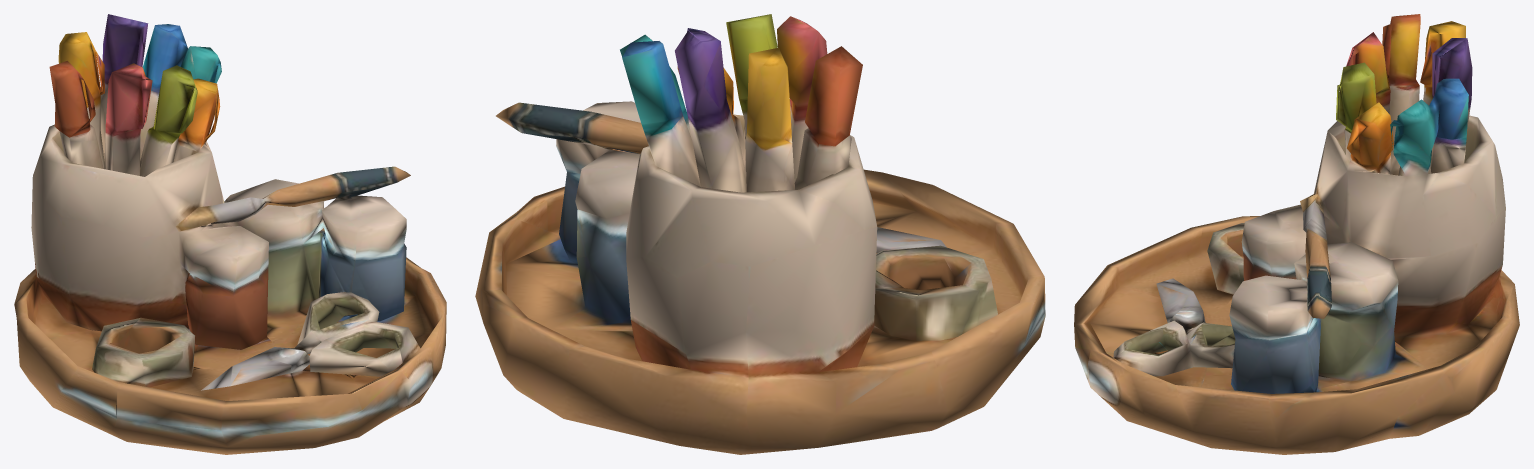
The model's file is art-supplies.low.glb.
3 renders of one model, left to right at view 1: azimuth 30°, elevation 25°; view 2: azimuth 150°, elevation 25°; view 3: azimuth 270°, elevation 25°, orthographic. The views are drawn at different scales.
Parts seen in each view (by area): view 1: tripo_node_44a76097-e6d3-4ae5-a54f-7d31e9ec1bc3; view 2: tripo_node_44a76097-e6d3-4ae5-a54f-7d31e9ec1bc3; view 3: tripo_node_44a76097-e6d3-4ae5-a54f-7d31e9ec1bc3.
Part boxes in pixels (bbox=[...]): tripo_node_44a76097-e6d3-4ae5-a54f-7d31e9ec1bc3: bbox=[14, 14, 446, 454]; tripo_node_44a76097-e6d3-4ae5-a54f-7d31e9ec1bc3: bbox=[475, 14, 1045, 454]; tripo_node_44a76097-e6d3-4ae5-a54f-7d31e9ec1bc3: bbox=[1074, 14, 1519, 454].
Bounding box in the file's own units: 0.4144 × 0.3289 × 0.4171.
Materials: 1 (1 with a texture image).
